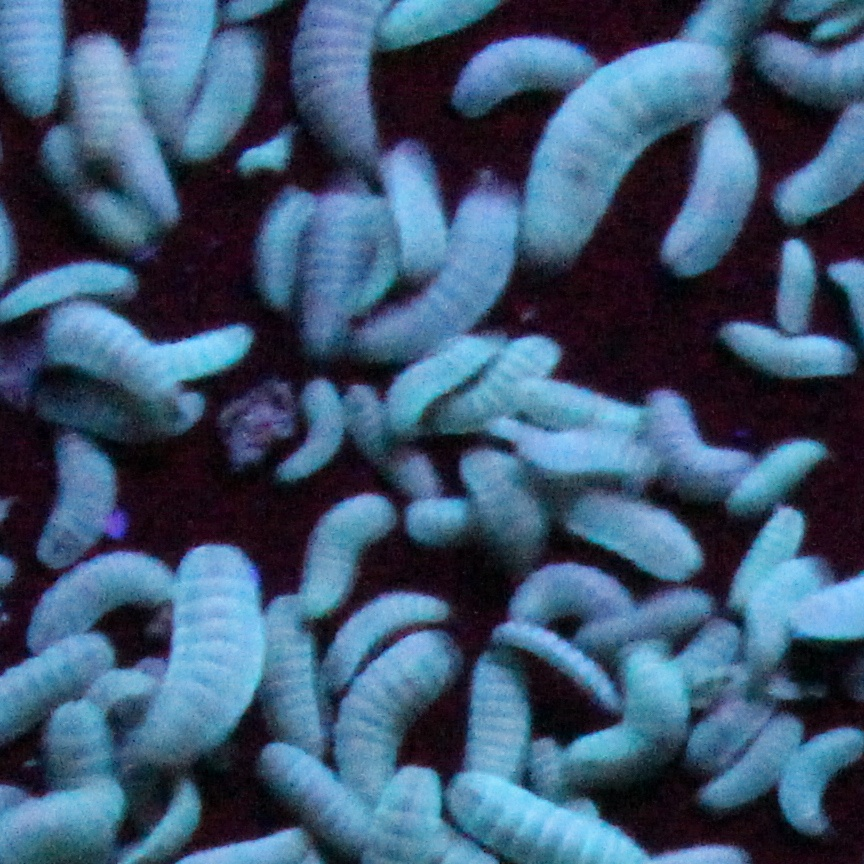larve: (520, 43, 735, 256), (352, 182, 518, 350), (137, 541, 258, 767), (337, 634, 463, 806), (665, 105, 765, 277), (25, 553, 173, 651), (297, 181, 378, 353), (489, 617, 628, 713), (315, 598, 452, 689), (294, 496, 394, 620), (254, 744, 373, 848), (451, 36, 596, 117), (563, 493, 704, 575), (435, 338, 559, 429), (384, 332, 494, 432), (639, 389, 752, 486), (37, 434, 116, 568), (377, 139, 447, 289), (268, 594, 327, 760), (463, 451, 544, 570), (702, 713, 804, 801), (716, 318, 858, 379), (189, 27, 256, 155), (728, 506, 808, 608), (71, 29, 134, 156), (506, 563, 639, 620), (721, 439, 823, 512), (256, 184, 315, 308), (275, 382, 347, 481), (144, 320, 258, 381), (130, 782, 201, 862), (523, 386, 642, 432), (775, 234, 816, 329)
